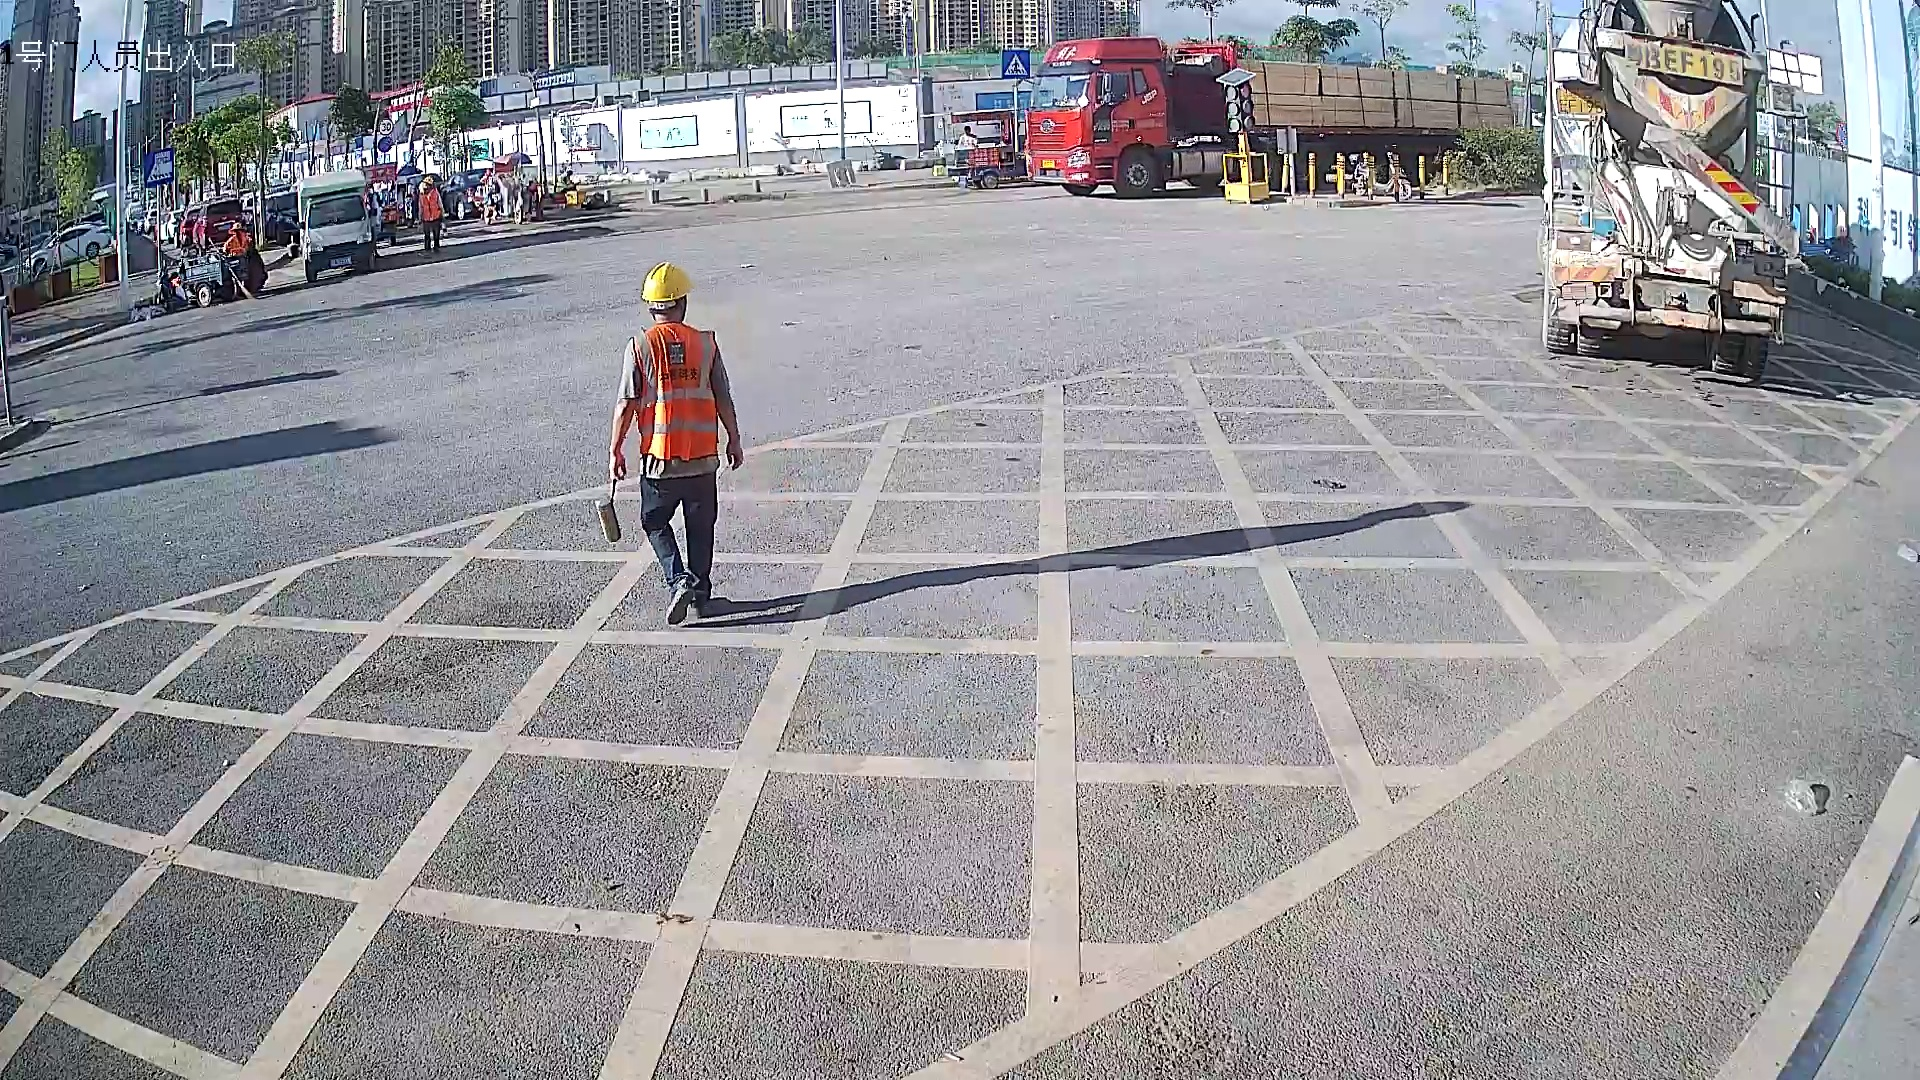person: (601, 256, 746, 623)
reflective_vest: (629, 322, 724, 465)
safety_helmet: (638, 256, 694, 324)
